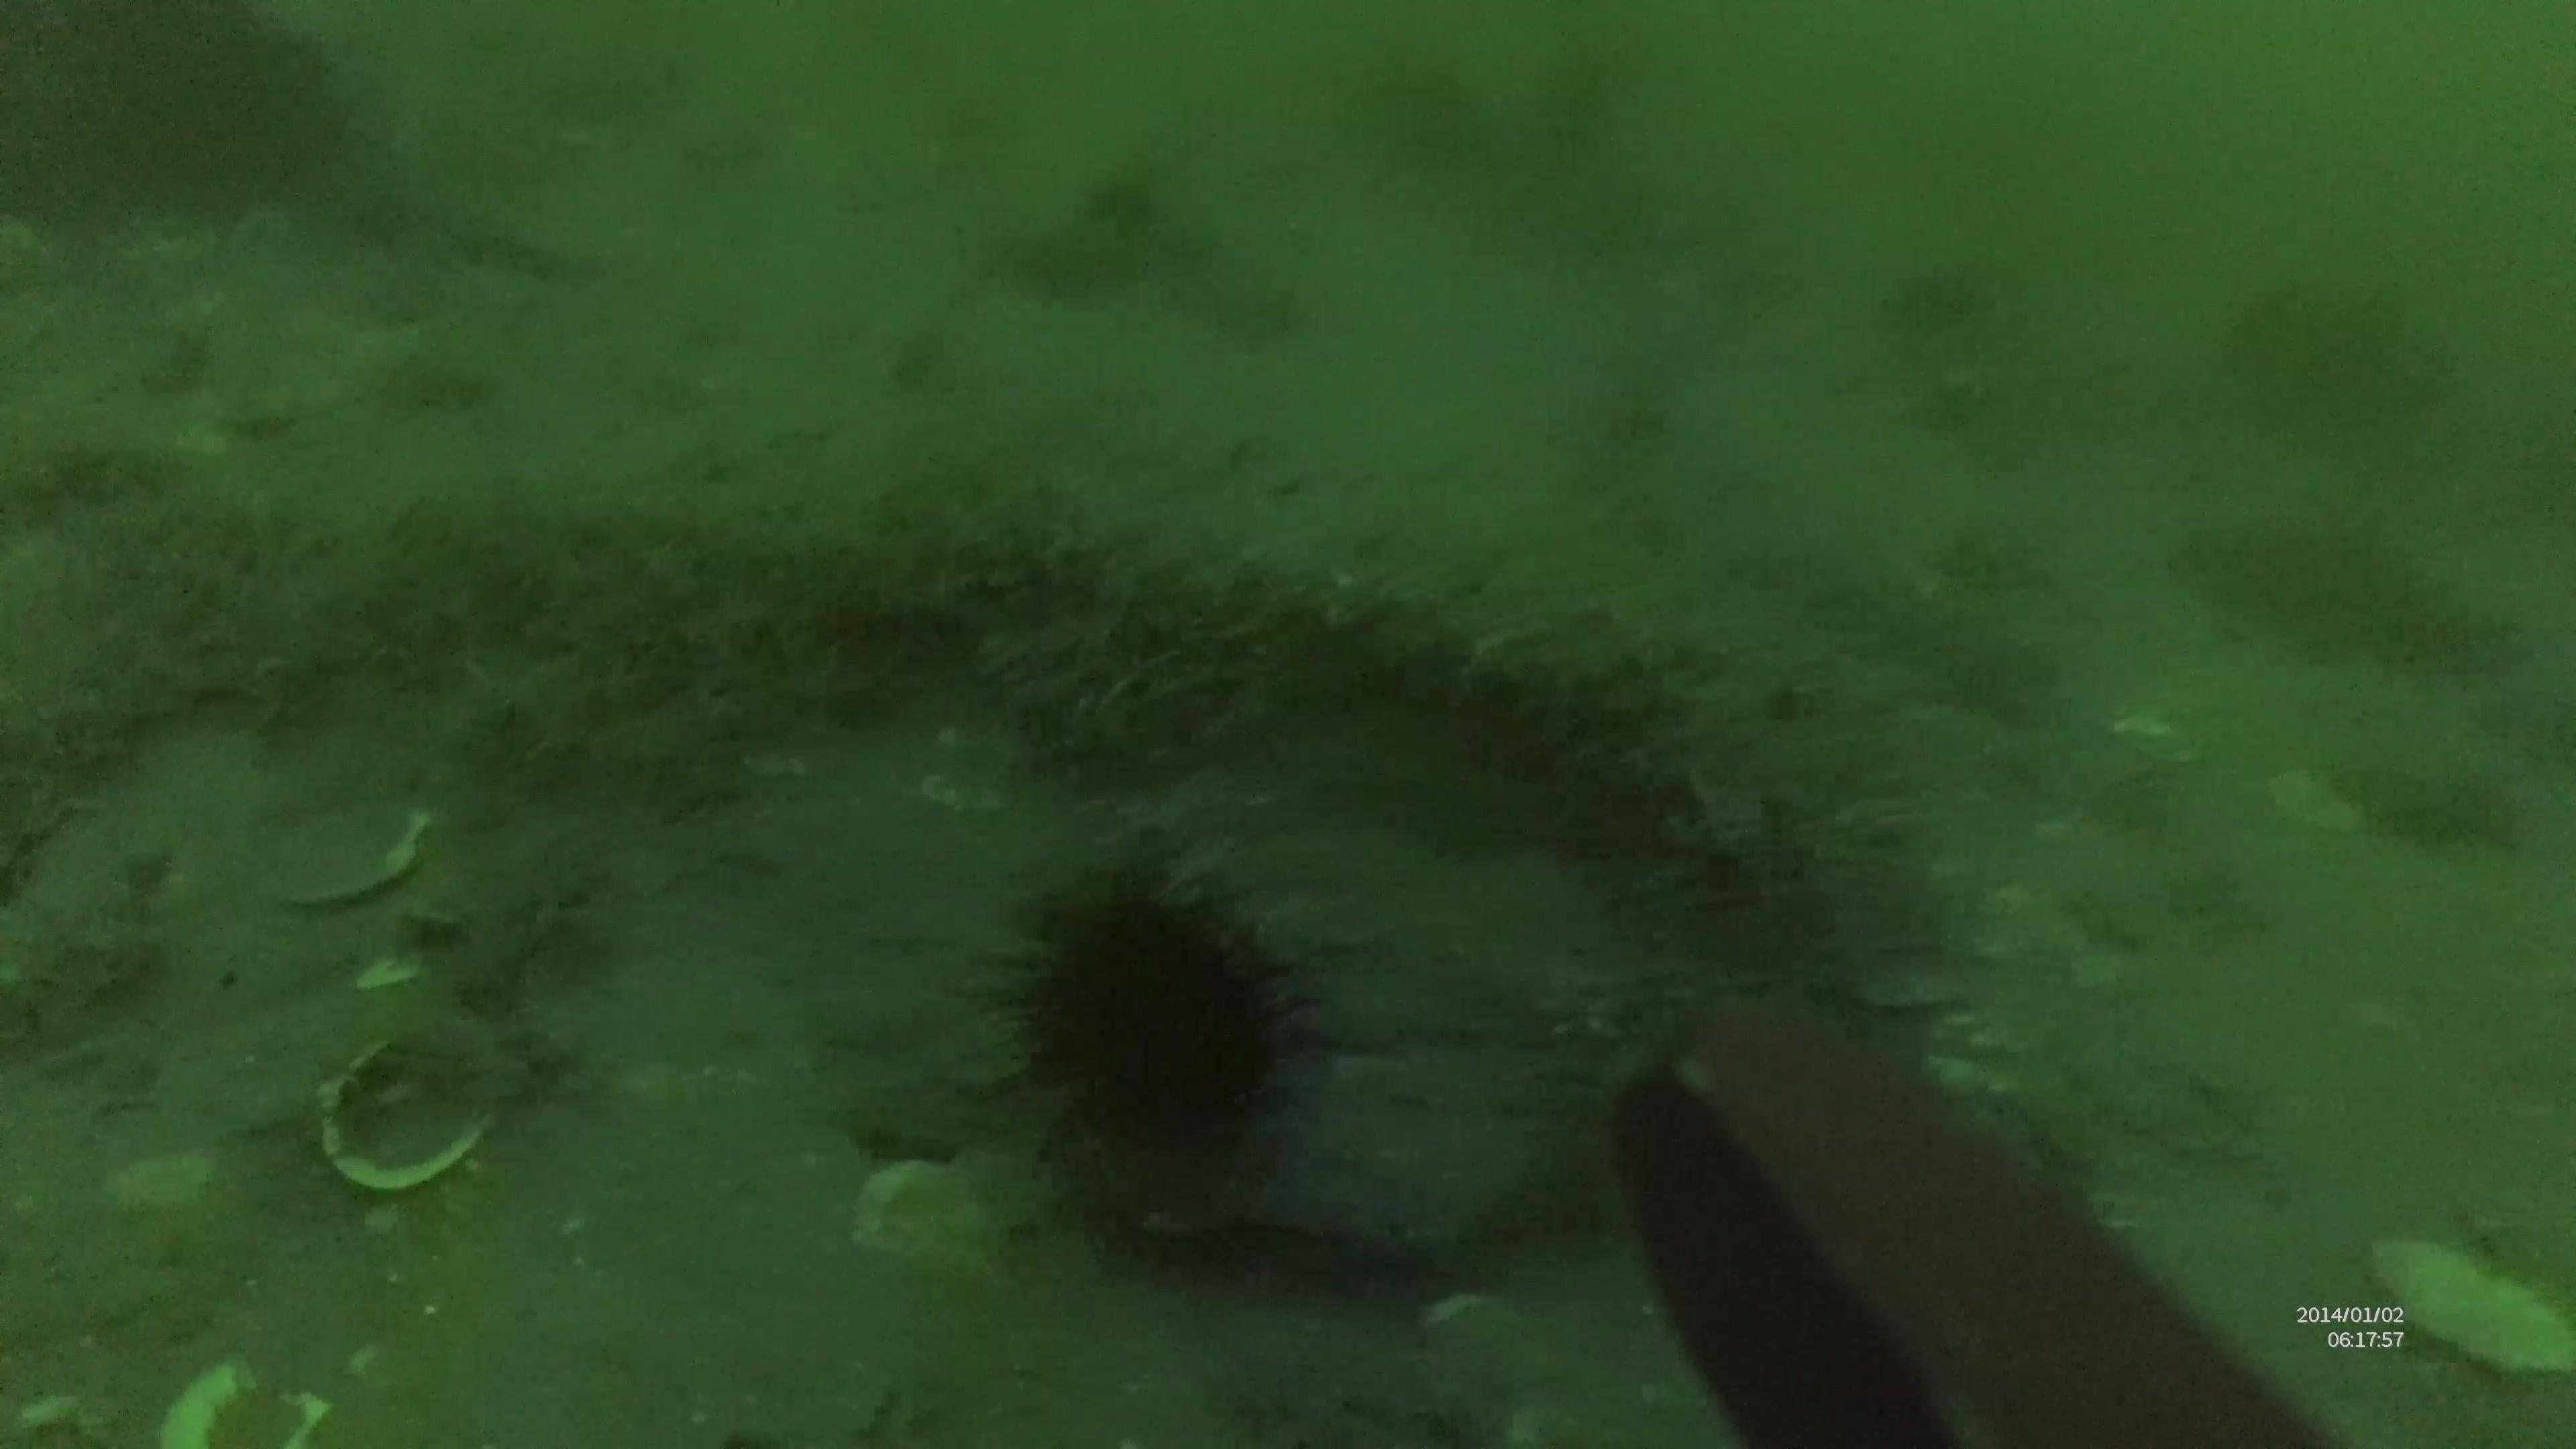echinus: (962, 870, 1327, 1152)
